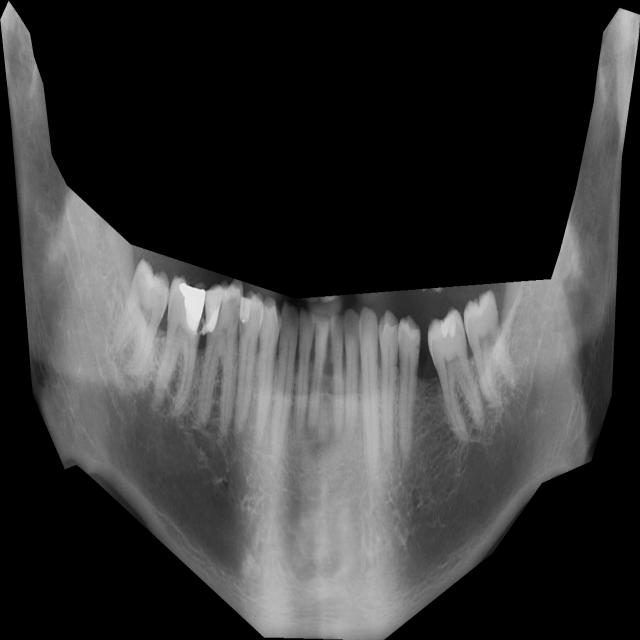mandibula: (0, 1, 640, 640)
